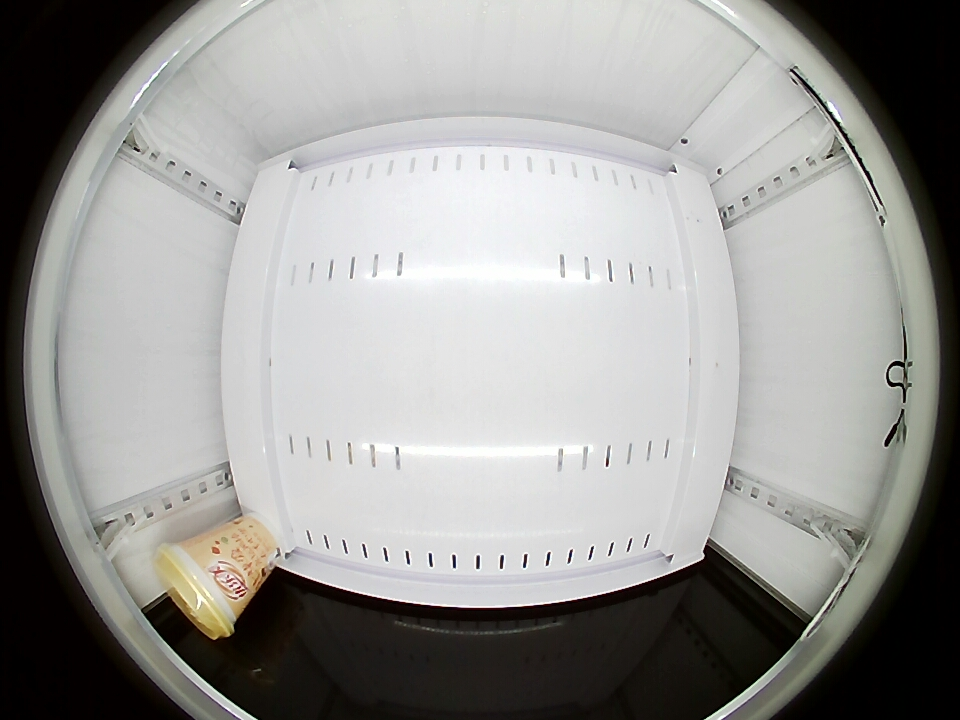youlemei: (155, 536, 243, 641)
